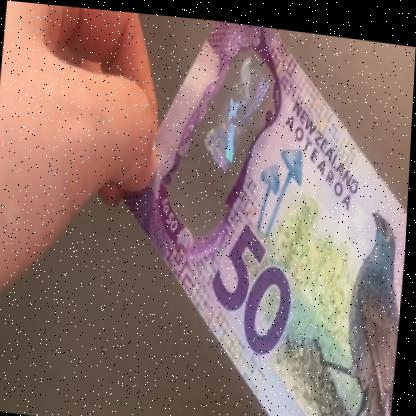50B: (191, 43, 273, 220)
